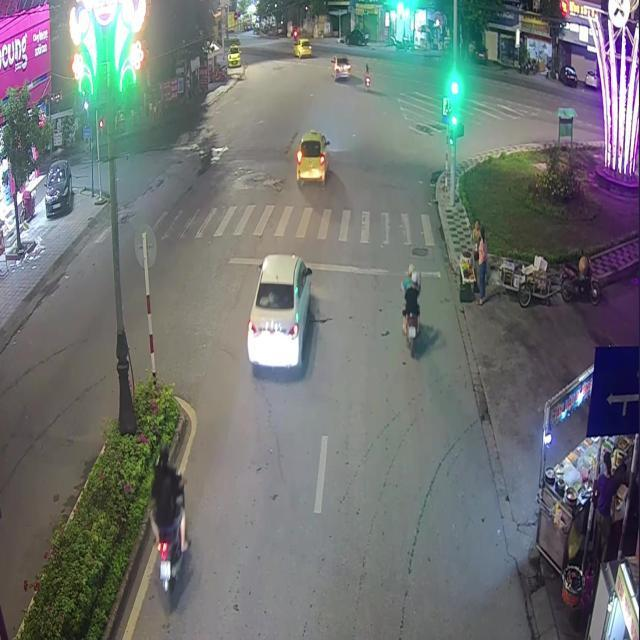car: (246, 254, 311, 368), (295, 129, 327, 185), (331, 54, 350, 79), (293, 37, 311, 57)
green_light: (450, 92, 457, 125)
motobike: (153, 468, 186, 601), (403, 313, 416, 356)
stop_line: (226, 256, 440, 277)
